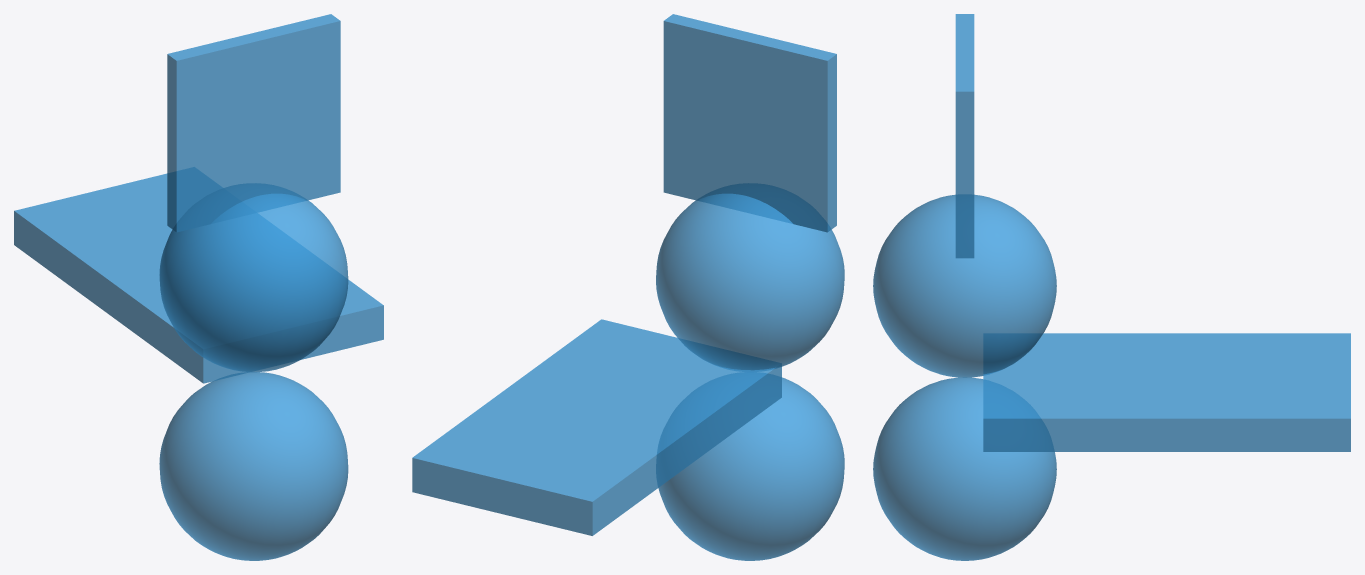
The model's file is TELTENTTOS20.glb.
3 renders of one model, left to right at view 1: azimuth 30°, elevation 25°; view 2: azimuth 150°, elevation 25°; view 3: azimuth 270°, elevation 25°, orthographic. The views are drawn at different scales.
Visible parts, largest first — view 1: CustomShape_rectangle_1743671902543, CustomShape_rectangle_1743704649091, CustomShape_sphere_1743672480191, CustomShape_sphere_1743672368439; view 2: CustomShape_rectangle_1743671902543, CustomShape_rectangle_1743704649091, CustomShape_sphere_1743672480191, CustomShape_sphere_1743672368439; view 3: CustomShape_rectangle_1743671902543, CustomShape_sphere_1743672368439, CustomShape_sphere_1743672480191, CustomShape_rectangle_1743704649091.
Part boxes in pixels (bbox=[...]): CustomShape_rectangle_1743671902543: bbox=[14, 167, 383, 383]; CustomShape_rectangle_1743704649091: bbox=[167, 14, 340, 232]; CustomShape_sphere_1743672480191: bbox=[159, 372, 348, 560]; CustomShape_sphere_1743672368439: bbox=[159, 184, 348, 372]; CustomShape_rectangle_1743671902543: bbox=[412, 319, 781, 535]; CustomShape_rectangle_1743704649091: bbox=[663, 14, 836, 232]; CustomShape_sphere_1743672480191: bbox=[656, 372, 844, 560]; CustomShape_sphere_1743672368439: bbox=[656, 184, 844, 371]; CustomShape_rectangle_1743671902543: bbox=[983, 333, 1350, 451]; CustomShape_sphere_1743672368439: bbox=[873, 194, 1056, 377]; CustomShape_sphere_1743672480191: bbox=[873, 377, 1056, 560]; CustomShape_rectangle_1743704649091: bbox=[955, 14, 974, 258].
Bounding box in the file's own units: 1.35 × 3 × 2.6.
